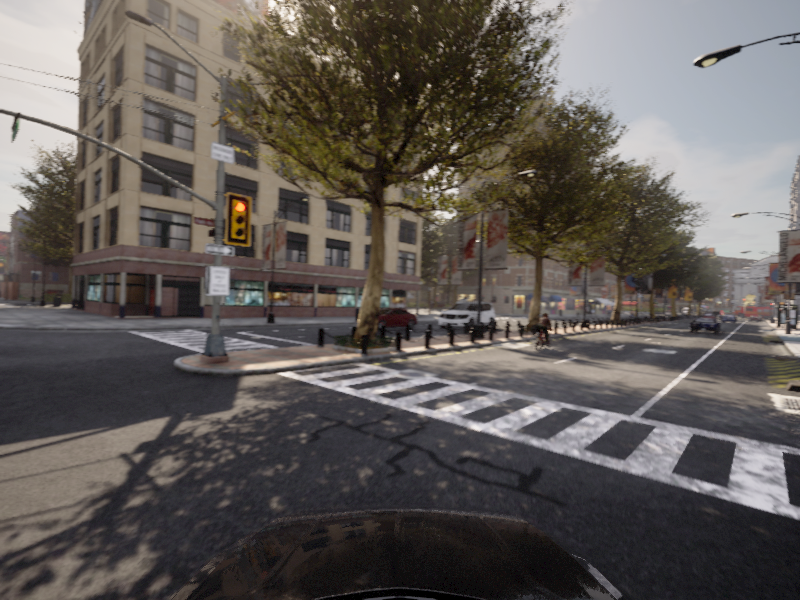vehicle: (435, 300, 499, 333), (353, 306, 422, 331), (528, 313, 558, 352), (689, 317, 721, 334)
